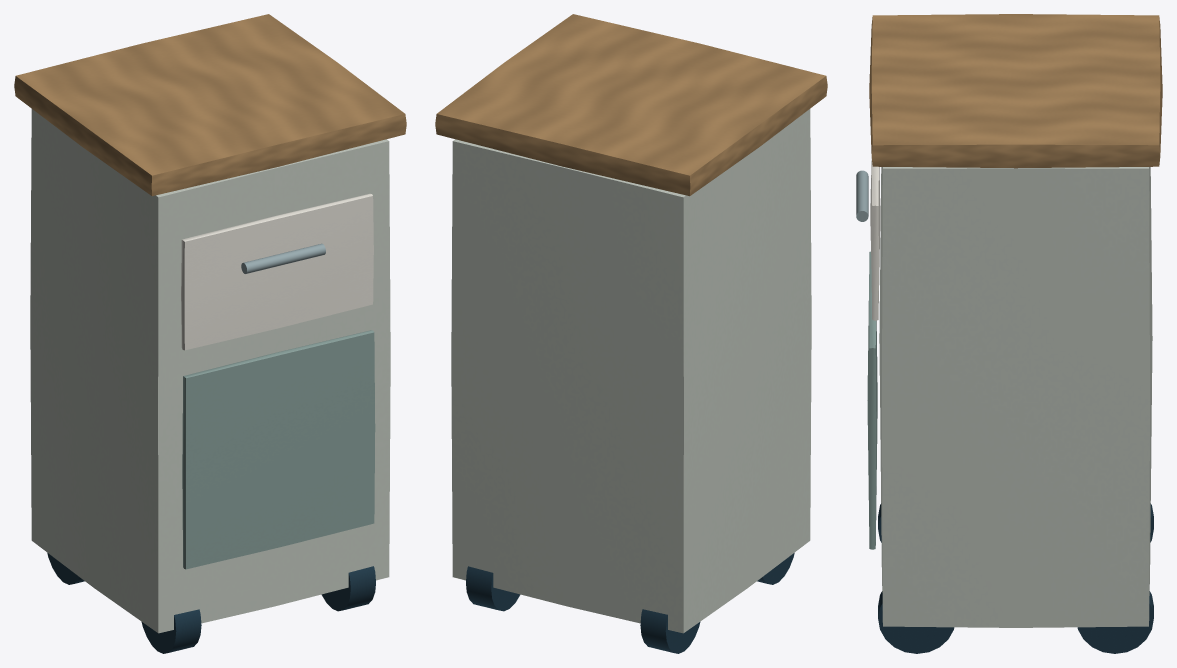
The model's file is bedside-table.glb.
3 renders of one model, left to right at view 1: azimuth 30°, elevation 25°; view 2: azimuth 150°, elevation 25°; view 3: azimuth 270°, elevation 25°, orthographic. The views are drawn at different scales.
Parts seen in each view (by area): view 1: bedside-table; view 2: bedside-table; view 3: bedside-table.
Part boxes in pixels (x1,y1,x2,y2): bedside-table: (14, 14, 406, 653); bedside-table: (435, 14, 827, 653); bedside-table: (856, 14, 1162, 653).
Bounding box in the file's own units: 0.46 × 0.8495 × 0.449.
Materials: 13 (13 with a texture image).
